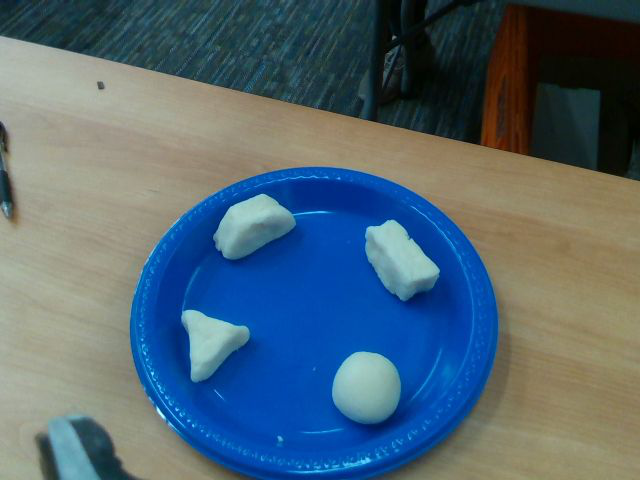mashed_potato: (365, 219, 440, 302), (214, 194, 295, 260), (332, 351, 401, 426), (181, 309, 249, 381)
